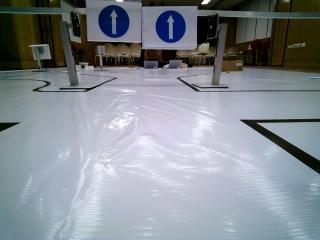straight: (142, 5, 196, 47), (89, 0, 142, 40)
